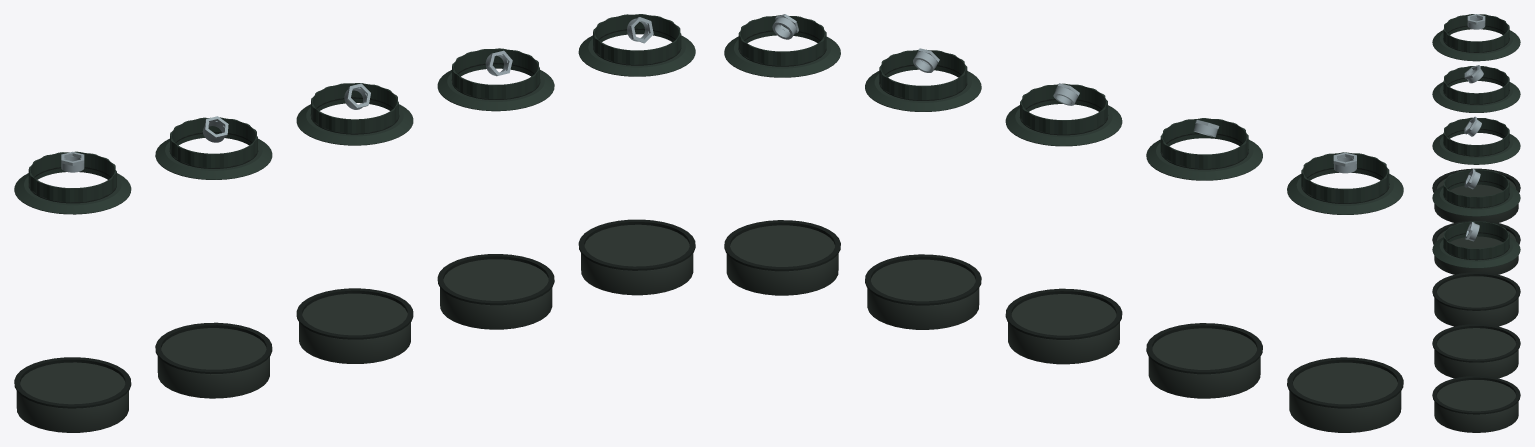
The model's file is aerosense_stock_static_detail_dark_v1.glb.
The picture shows the model from 3 angles, left to right: view 1: azimuth 30°, elevation 25°; view 2: azimuth 150°, elevation 25°; view 3: azimuth 270°, elevation 25°; orthographic projection. The views are drawn at different scales.
Visible parts, largest first — view 1: Stock_Base_Risers | batch Fluid | neutral_black_riser, Stock_E_StaticDetail | batch Fluid | source_black_polymer, Stock_D_StaticDetail | batch Fluid | source_black_polymer, Stock_C_StaticDetail | batch Fluid | source_black_polymer, Stock_B_StaticDetail | batch Fluid | source_black_polymer, Stock_A_StaticDetail | batch Fluid | source_black_polymer, Stock_C_StaticDetail | batch Fluid | black_gasket, Stock_E_StaticDetail | batch Fluid | black_gasket, Stock_B_StaticDetail | batch Fluid | black_gasket, Stock_D_StaticDetail | batch Fluid | black_gasket, Stock_A_StaticDetail | batch Fluid | black_gasket; view 2: Stock_Base_Risers | batch Fluid | neutral_black_riser, Stock_B_StaticDetail | batch Fluid | source_black_polymer, Stock_C_StaticDetail | batch Fluid | source_black_polymer, Stock_D_StaticDetail | batch Fluid | source_black_polymer, Stock_E_StaticDetail | batch Fluid | source_black_polymer, Stock_A_StaticDetail | batch Fluid | source_black_polymer, Stock_B_StaticDetail | batch Fluid | black_gasket, Stock_C_StaticDetail | batch Fluid | black_gasket, Stock_E_StaticDetail | batch Fluid | black_gasket, Stock_D_StaticDetail | batch Fluid | black_gasket, Stock_A_StaticDetail | batch Fluid | black_gasket; view 3: Stock_Base_Risers | batch Fluid | neutral_black_riser, Stock_E_StaticDetail | batch Fluid | source_black_polymer, Stock_D_StaticDetail | batch Fluid | source_black_polymer, Stock_C_StaticDetail | batch Fluid | source_black_polymer, Stock_B_StaticDetail | batch Fluid | source_black_polymer, Stock_A_StaticDetail | batch Fluid | source_black_polymer, Stock_D_StaticDetail | batch Fluid | black_gasket, Stock_E_StaticDetail | batch Fluid | black_gasket, Stock_C_StaticDetail | batch Fluid | black_gasket, Stock_B_StaticDetail | batch Fluid | black_gasket, Stock_A_StaticDetail | batch Fluid | black_gasket, Stock_A_StaticDetail | batch Fluid | source_satin_steel (+4 smaller).
Boxes of the visible parts, box(x1,y1,x2,y2) form: Stock_Base_Risers | batch Fluid | neutral_black_riser: box(16, 224, 693, 432); Stock_E_StaticDetail | batch Fluid | source_black_polymer: box(578, 14, 695, 76); Stock_D_StaticDetail | batch Fluid | source_black_polymer: box(437, 48, 554, 111); Stock_C_StaticDetail | batch Fluid | source_black_polymer: box(296, 83, 413, 145); Stock_B_StaticDetail | batch Fluid | source_black_polymer: box(155, 117, 272, 179); Stock_A_StaticDetail | batch Fluid | source_black_polymer: box(14, 151, 131, 214); Stock_C_StaticDetail | batch Fluid | black_gasket: box(296, 97, 413, 339); Stock_E_StaticDetail | batch Fluid | black_gasket: box(578, 28, 695, 270); Stock_B_StaticDetail | batch Fluid | black_gasket: box(155, 132, 272, 374); Stock_D_StaticDetail | batch Fluid | black_gasket: box(437, 63, 554, 305); Stock_A_StaticDetail | batch Fluid | black_gasket: box(14, 167, 131, 408); Stock_Base_Risers | batch Fluid | neutral_black_riser: box(726, 225, 1401, 432); Stock_B_StaticDetail | batch Fluid | source_black_polymer: box(1146, 118, 1262, 180); Stock_C_StaticDetail | batch Fluid | source_black_polymer: box(1005, 83, 1122, 146); Stock_D_StaticDetail | batch Fluid | source_black_polymer: box(865, 49, 981, 111); Stock_E_StaticDetail | batch Fluid | source_black_polymer: box(724, 15, 840, 77); Stock_A_StaticDetail | batch Fluid | source_black_polymer: box(1287, 152, 1403, 214); Stock_B_StaticDetail | batch Fluid | black_gasket: box(1146, 133, 1262, 374); Stock_C_StaticDetail | batch Fluid | black_gasket: box(1005, 99, 1122, 339); Stock_E_StaticDetail | batch Fluid | black_gasket: box(724, 30, 840, 271); Stock_D_StaticDetail | batch Fluid | black_gasket: box(865, 64, 981, 305); Stock_A_StaticDetail | batch Fluid | black_gasket: box(1287, 168, 1403, 408); Stock_Base_Risers | batch Fluid | neutral_black_riser: box(1434, 179, 1518, 432); Stock_E_StaticDetail | batch Fluid | source_black_polymer: box(1432, 221, 1520, 268); Stock_D_StaticDetail | batch Fluid | source_black_polymer: box(1432, 169, 1520, 216); Stock_C_StaticDetail | batch Fluid | source_black_polymer: box(1432, 117, 1520, 164); Stock_B_StaticDetail | batch Fluid | source_black_polymer: box(1432, 66, 1520, 112); Stock_A_StaticDetail | batch Fluid | source_black_polymer: box(1432, 14, 1520, 61); Stock_D_StaticDetail | batch Fluid | black_gasket: box(1432, 180, 1520, 362); Stock_E_StaticDetail | batch Fluid | black_gasket: box(1432, 232, 1520, 414); Stock_C_StaticDetail | batch Fluid | black_gasket: box(1432, 128, 1520, 310); Stock_B_StaticDetail | batch Fluid | black_gasket: box(1432, 77, 1520, 244); Stock_A_StaticDetail | batch Fluid | black_gasket: box(1432, 25, 1520, 192); Stock_A_StaticDetail | batch Fluid | source_satin_steel: box(1467, 14, 1485, 29).
Bounding box in the file's own units: 0.9438 × 0.348 × 0.1438.
